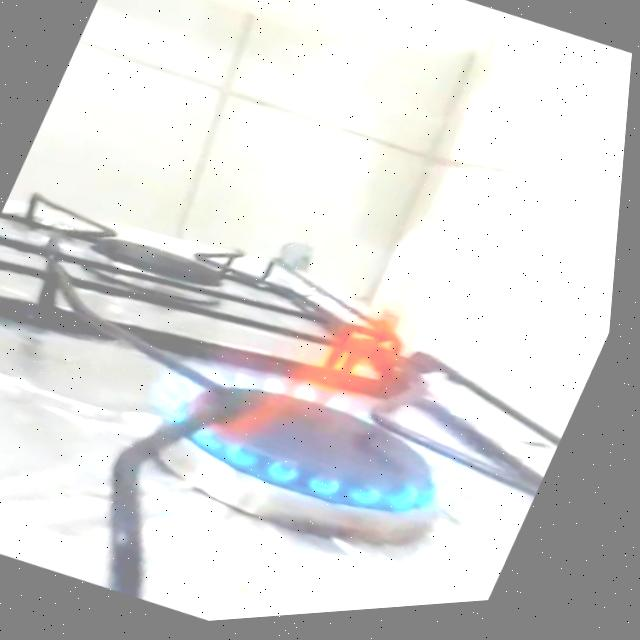Fire: (120, 214, 569, 575)
